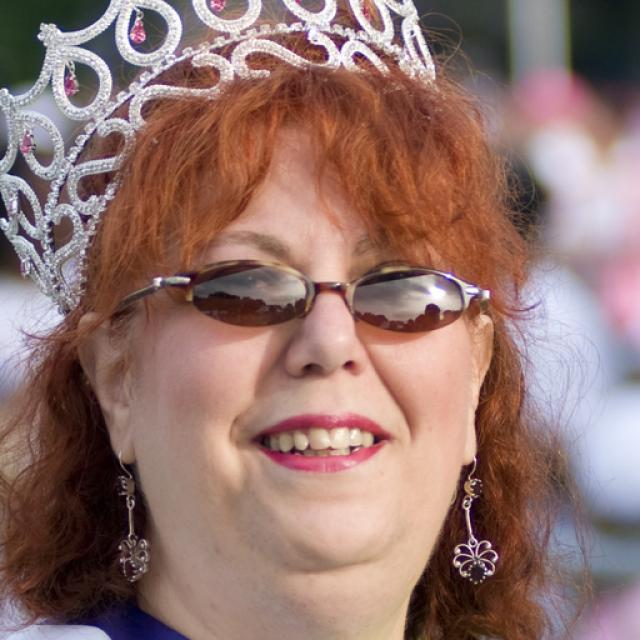disgust: (128, 114, 478, 572)
